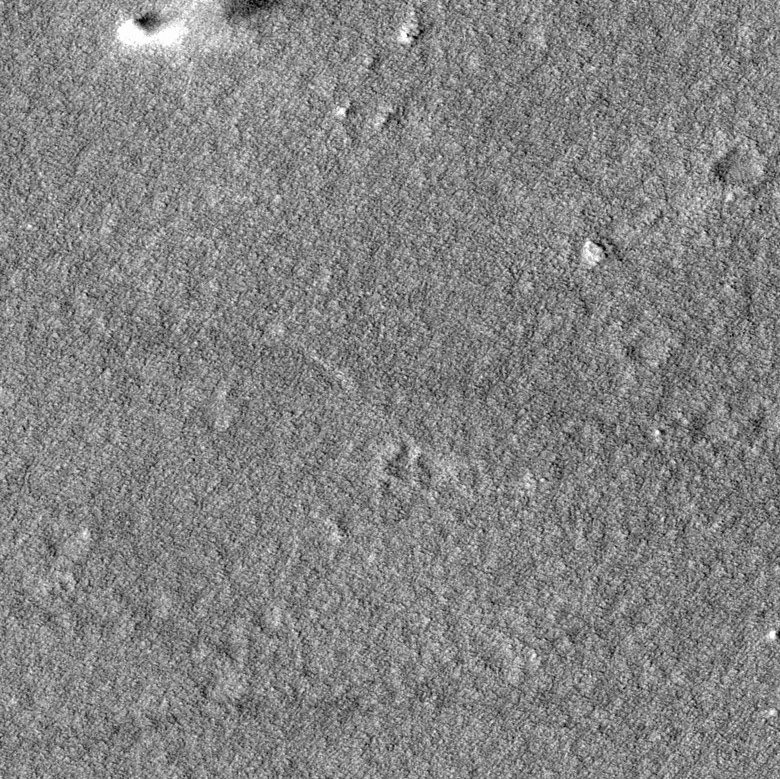dust_devil: (114, 1, 287, 48)
